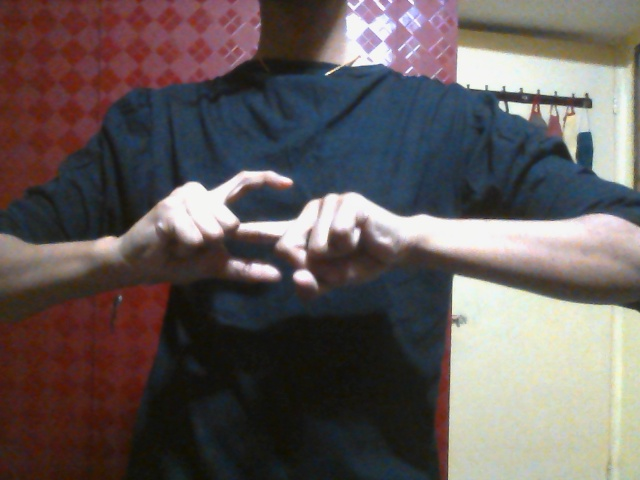E: (141, 164, 400, 306)
